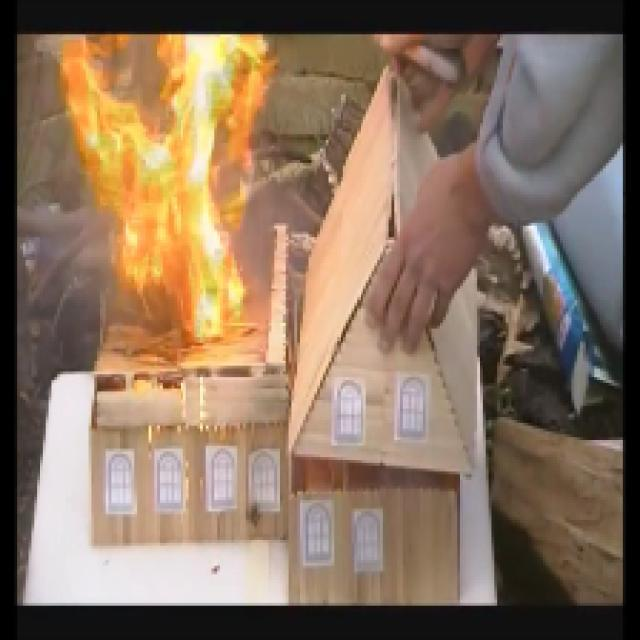Fire: (78, 39, 250, 335)
